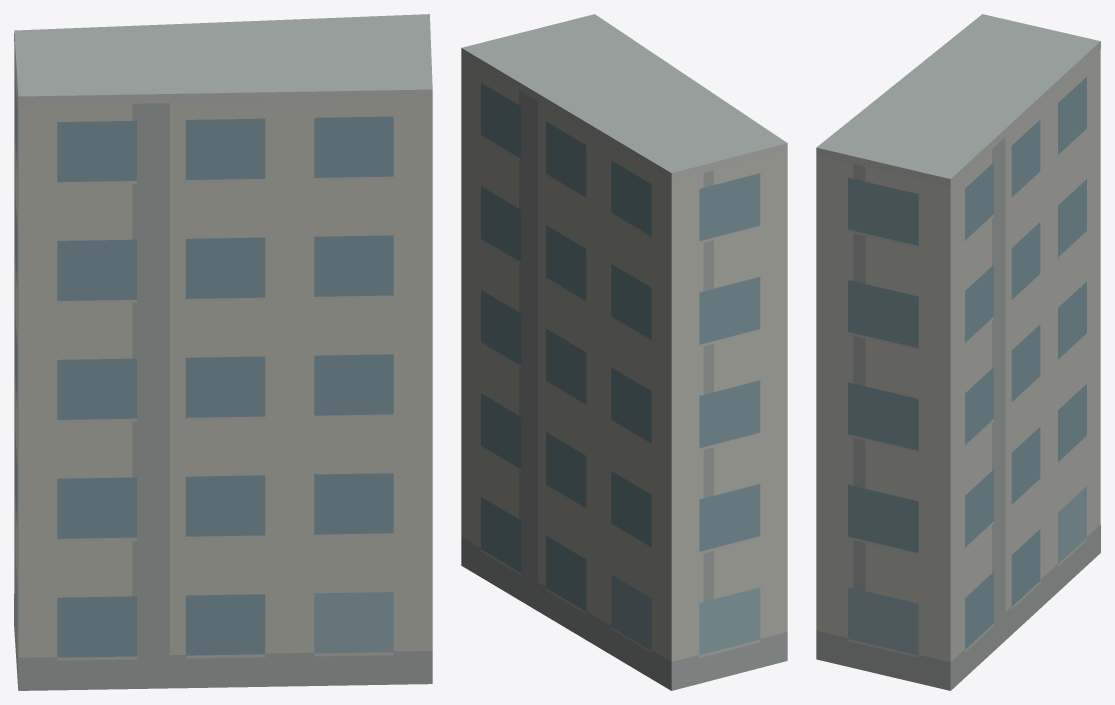
File: survey-upis-32723706.glb
3 views of the same model, side by side, from view 1: azimuth 30°, elevation 25°; view 2: azimuth 150°, elevation 25°; view 3: azimuth 270°, elevation 25° (orthographic). The views are drawn at different scales.
Parts seen in each view (by area): view 1: survey-upis-32723706.tmp; view 2: survey-upis-32723706.tmp; view 3: survey-upis-32723706.tmp.
Part boxes in pixels (x1=…): survey-upis-32723706.tmp: x1=14, y1=14, x2=432, y2=690; survey-upis-32723706.tmp: x1=461, y1=14, x2=787, y2=690; survey-upis-32723706.tmp: x1=816, y1=14, x2=1100, y2=690.
Size of the model in its own units: 10.94 by 15.8 by 7.97.
